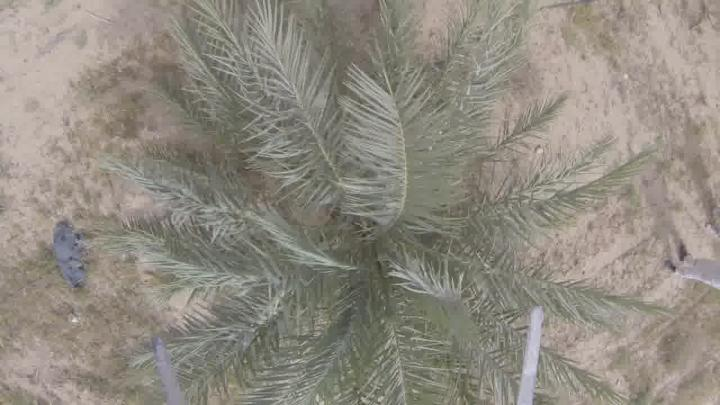Date-Palm-Crown: (223, 67, 527, 405)
